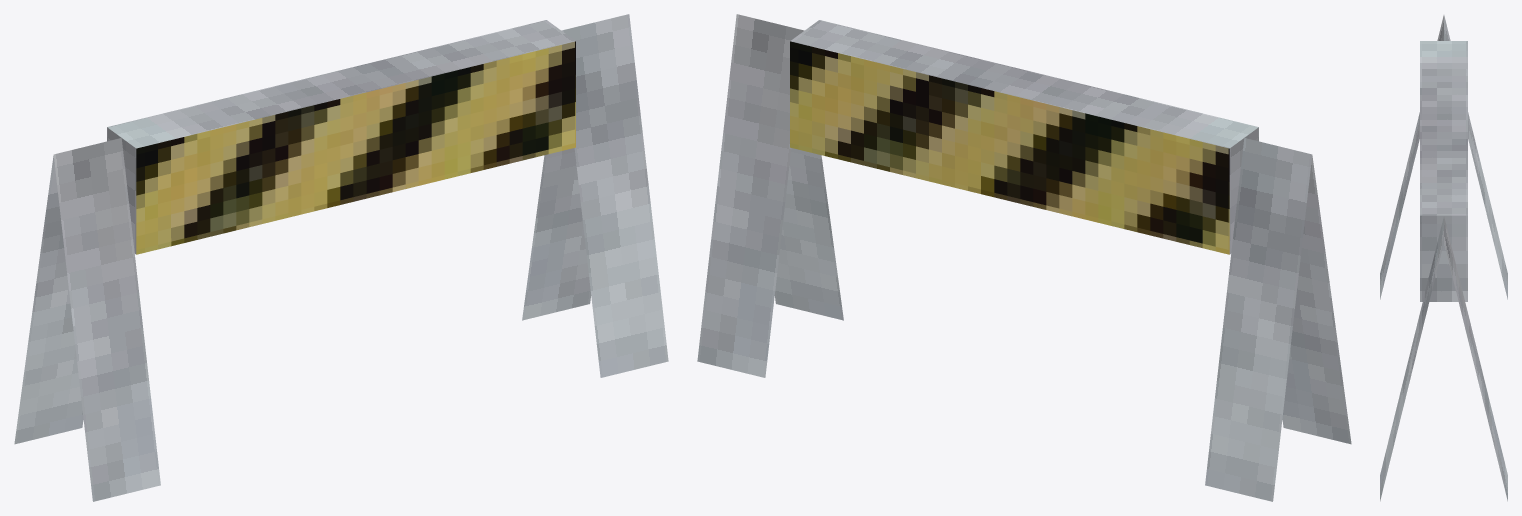
The model's file is detail-barrier-type-b.glb.
3 views of the same model, side by side, from view 1: azimuth 30°, elevation 25°; view 2: azimuth 150°, elevation 25°; view 3: azimuth 270°, elevation 25° (orthographic). The views are drawn at different scales.
Parts seen in each view (by area): view 1: detail-barrier-type-b; view 2: detail-barrier-type-b; view 3: detail-barrier-type-b.
Boxes of the visible parts, x1=… form: detail-barrier-type-b: x1=14, y1=14, x2=668, y2=501; detail-barrier-type-b: x1=697, y1=14, x2=1351, y2=501; detail-barrier-type-b: x1=1380, y1=15, x2=1507, y2=501.
Size of the model in its own units: 0.567 by 0.3 by 0.134.
2 materials, 2 textured.
